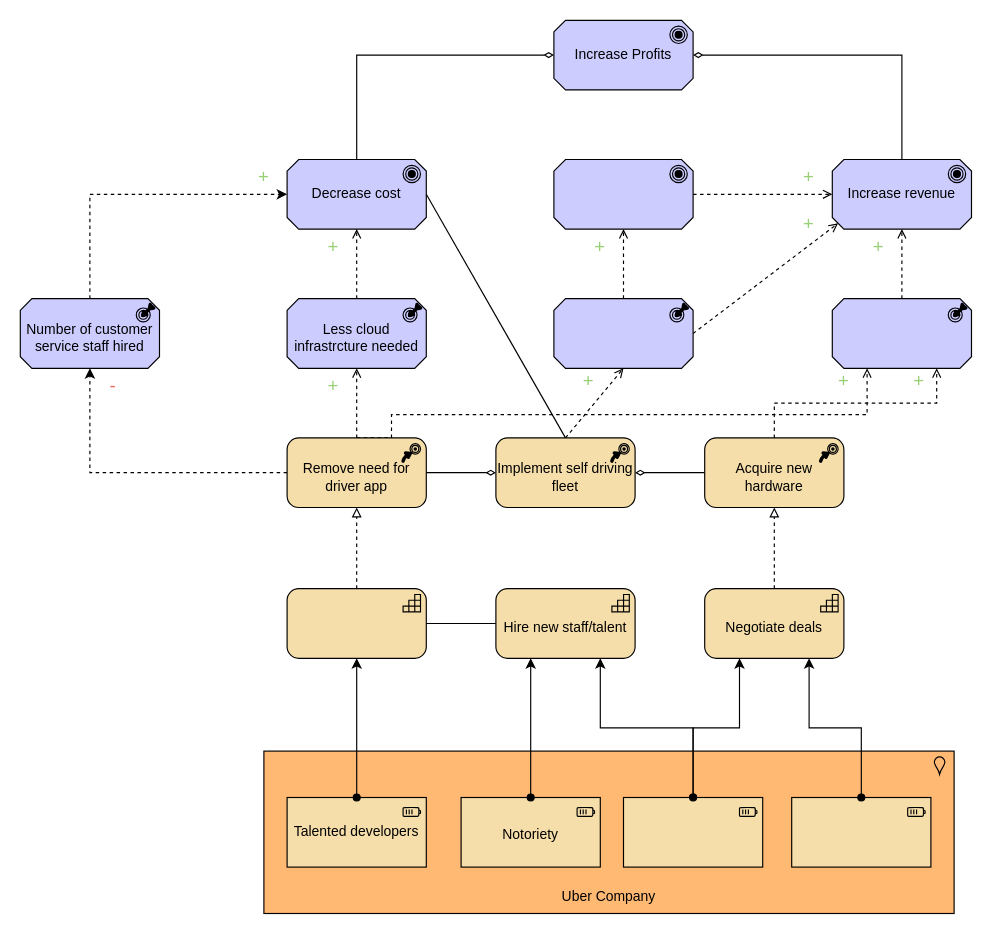
Image size: 992x934. Some labels were removed from this diagram. The centre of each missing label's shape, as x and y in pixels:
Better/more consistent service for rider: point 623,333
Developers have more time to work on new projects: point 901,333
Existing associations with self driving car company: point 861,831
Increase market share: point 623,193
Make large application changes: point 356,623
Markey share: point 692,831
